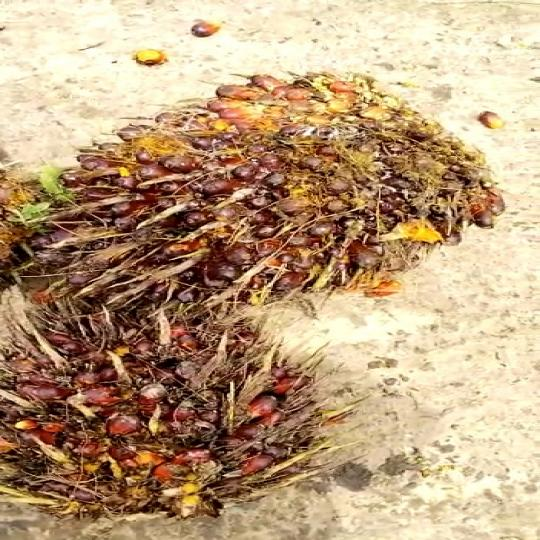masak: (47, 70, 511, 298), (0, 280, 350, 530)
